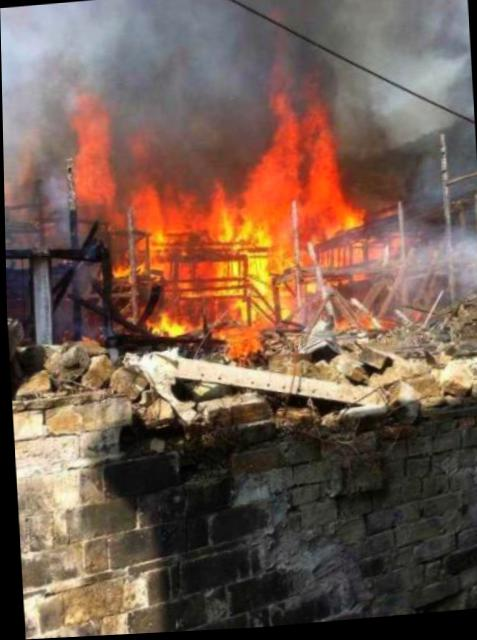fire: (242, 160, 296, 272), (263, 69, 304, 197), (302, 84, 341, 204), (72, 103, 117, 207), (298, 202, 364, 246), (133, 198, 210, 233), (246, 260, 273, 326), (212, 198, 244, 243), (150, 310, 188, 338), (194, 262, 243, 281), (228, 326, 258, 357), (147, 232, 166, 274), (184, 289, 244, 300), (111, 265, 145, 279)
